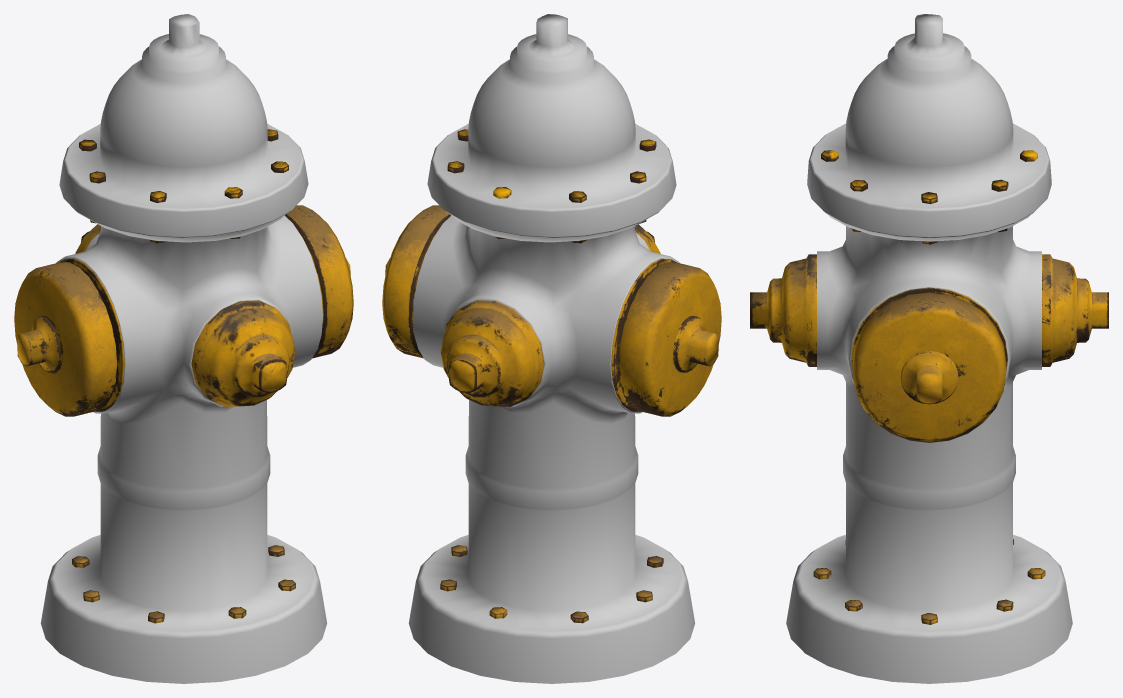
3 views of the same model, side by side, from view 1: azimuth 30°, elevation 25°; view 2: azimuth 150°, elevation 25°; view 3: azimuth 270°, elevation 25° (orthographic).
Parts seen in each view (by area): view 1: base_low, uzaver4_low, uzaver_2_3_low, uzaver1_low, bolts_bottom_low, bolts_top_low; view 2: base_low, uzaver4_low, uzaver_2_3_low, uzaver1_low, bolts_bottom_low, bolts_top_low; view 3: base_low, uzaver1_low, uzaver_2_3_low, bolts_top_low, bolts_bottom_low.
Boxes of the visible parts, x1,y1,x2,y2 form: base_low: (40, 14, 327, 683); uzaver4_low: (14, 258, 124, 416); uzaver_2_3_low: (75, 224, 295, 406); uzaver1_low: (285, 205, 353, 358); bolts_bottom_low: (72, 545, 295, 623); bolts_top_low: (79, 129, 288, 202); base_low: (408, 14, 695, 683); uzaver4_low: (611, 258, 721, 416); uzaver_2_3_low: (440, 224, 660, 406); uzaver1_low: (382, 205, 450, 358); bolts_bottom_low: (440, 545, 663, 623); bolts_top_low: (447, 129, 656, 202); base_low: (786, 14, 1072, 683); uzaver1_low: (851, 287, 1007, 442); uzaver_2_3_low: (750, 254, 1108, 366); bolts_top_low: (821, 150, 1037, 203); bolts_bottom_low: (813, 539, 1045, 624).
Bounding box in the file's own units: 1.11 × 2 × 1.08.
